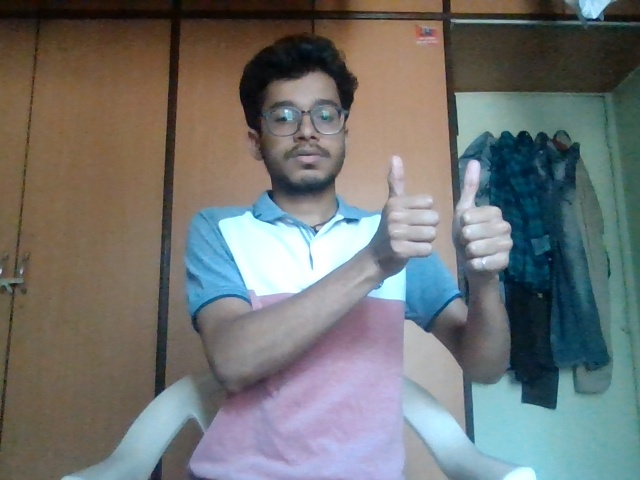thank-you: (380, 147, 536, 286)
